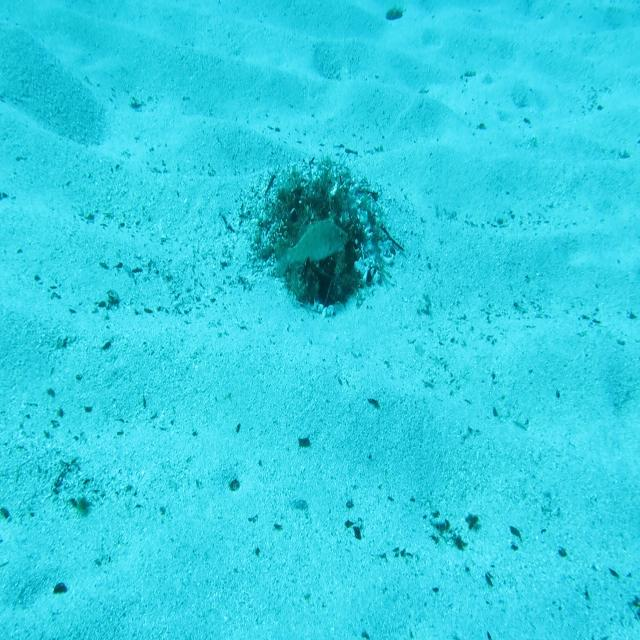MAN: (270, 215, 351, 284)
nest: (250, 173, 385, 319)
